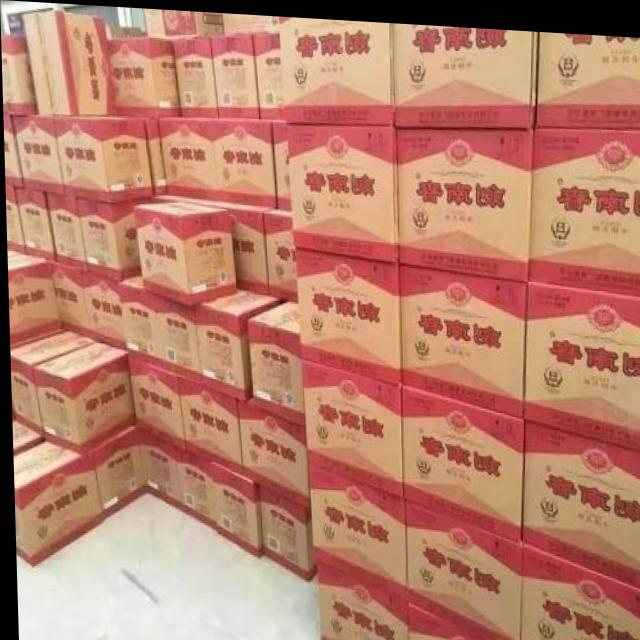box: (395, 122, 535, 275), (518, 413, 640, 581), (397, 259, 527, 415), (521, 275, 640, 445), (399, 382, 521, 539), (527, 120, 640, 289), (401, 494, 519, 640), (285, 121, 397, 259), (392, 18, 540, 122), (293, 246, 398, 382), (299, 357, 401, 494), (305, 457, 403, 597), (278, 13, 394, 122), (518, 539, 640, 640), (153, 194, 275, 292), (30, 340, 133, 454), (11, 438, 100, 566), (133, 199, 236, 307), (192, 284, 286, 400), (535, 25, 640, 122), (23, 9, 115, 116), (8, 328, 94, 437), (53, 114, 153, 203), (75, 195, 175, 278), (234, 392, 307, 502), (311, 555, 404, 640), (246, 298, 302, 411), (175, 375, 240, 470), (107, 36, 180, 116), (125, 352, 184, 450), (212, 116, 276, 205), (255, 479, 312, 575), (6, 247, 59, 348), (155, 116, 217, 198), (88, 424, 143, 516), (145, 290, 198, 383), (208, 456, 258, 551), (9, 115, 65, 196), (210, 29, 260, 116), (171, 34, 219, 116), (403, 597, 490, 640), (171, 443, 213, 530), (80, 270, 125, 350), (262, 204, 296, 300), (135, 427, 175, 508), (44, 193, 86, 270), (13, 186, 55, 263), (118, 271, 152, 363), (1, 36, 39, 116), (47, 261, 87, 336), (253, 29, 284, 116), (143, 7, 226, 36), (142, 116, 166, 194), (270, 117, 290, 208), (3, 114, 22, 187), (4, 184, 24, 253), (223, 10, 278, 33), (10, 418, 41, 454)
